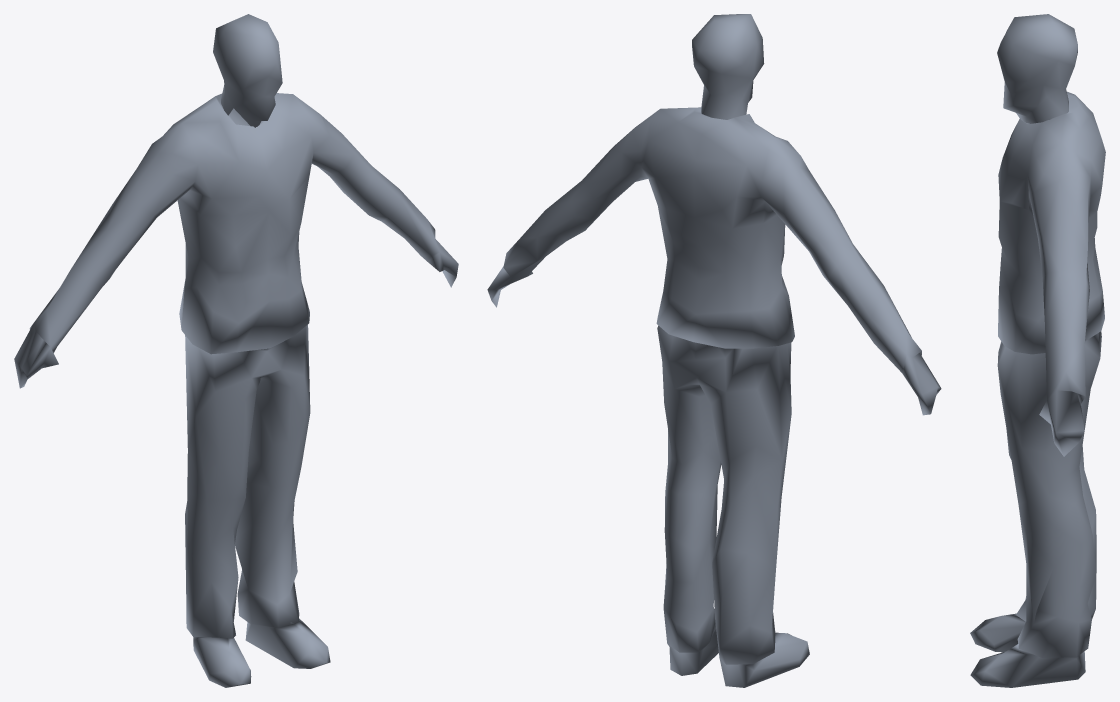
The model's file is corpse1_reference_lod1.obj.
3 renders of one model, left to right at view 1: azimuth 30°, elevation 25°; view 2: azimuth 150°, elevation 25°; view 3: azimuth 270°, elevation 25°, orthographic.
Bounding box in the file's own units: 51.9 × 72.46 × 13.89.
